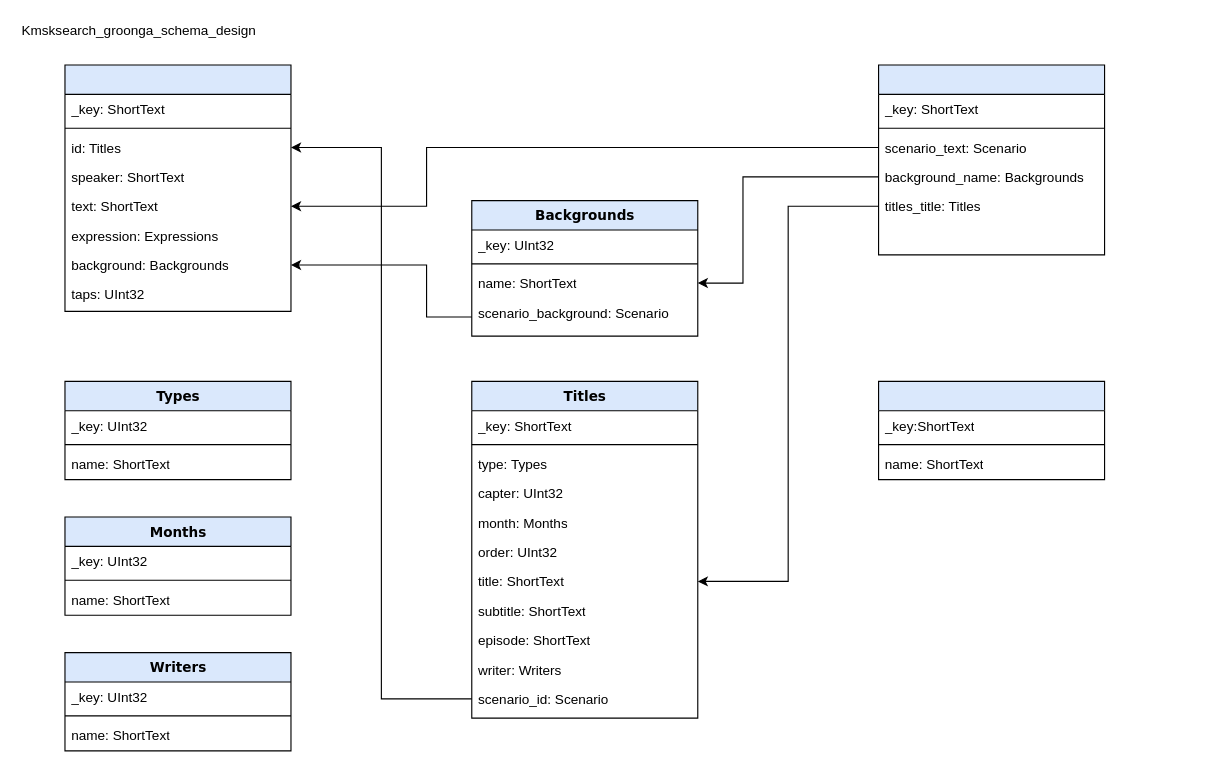
Image size: 1214x772. Some labels were removed from this diagram. The box of each missing label's shape, as (x1, y1, x2, y2) in pixels:
Expressions: (877, 380, 1105, 480)
Scenario: (64, 64, 291, 311)
Terms: (877, 64, 1105, 255)
